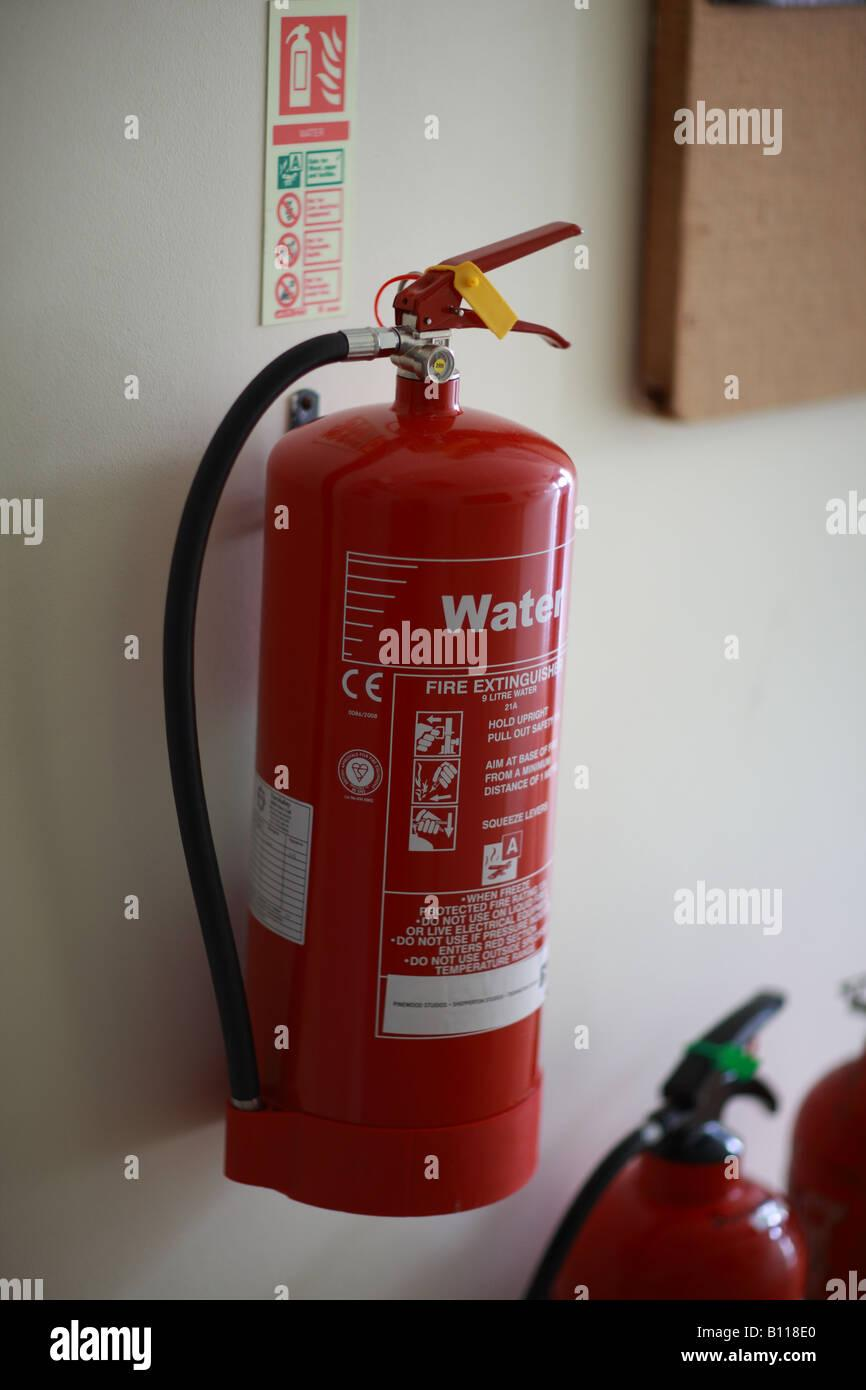wall-mounted: (84, 184, 654, 1244)
